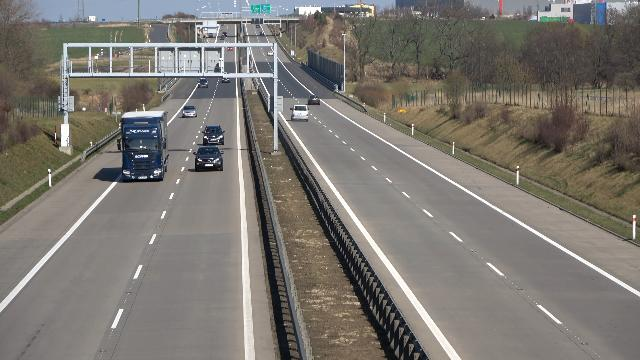car: (194, 145, 227, 173), (203, 124, 225, 145), (181, 105, 198, 117), (307, 95, 321, 105), (197, 78, 209, 89)
truck: (121, 110, 171, 181)
van: (290, 105, 310, 122)
